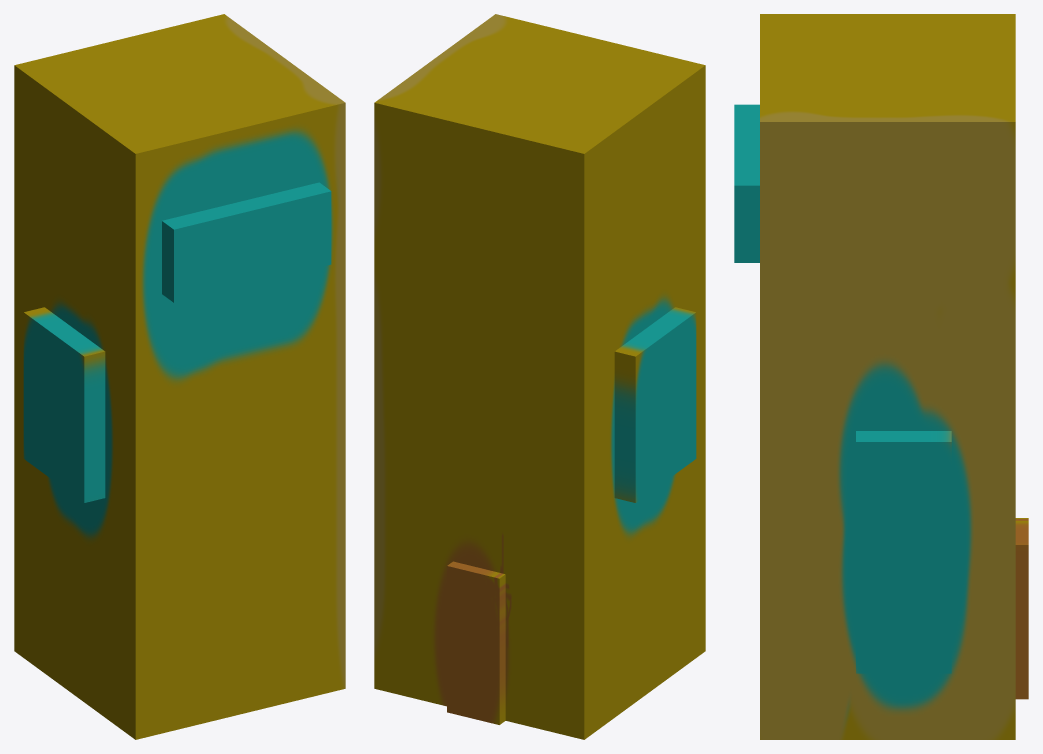
Rendered from building3.glb.
3 renders of one model, left to right at view 1: azimuth 30°, elevation 25°; view 2: azimuth 150°, elevation 25°; view 3: azimuth 270°, elevation 25°, orthographic. The views are drawn at different scales.
Visible parts, largest first — view 1: Cube; view 2: Cube; view 3: Cube.
Boxes of the visible parts, left/top/right/bottom form: Cube: left=14, top=14, right=345, bottom=739; Cube: left=374, top=14, right=705, bottom=739; Cube: left=734, top=14, right=1028, bottom=739.
Size of the model in its own units: 36 by 80 by 34.5.
Materials: 1 (1 with a texture image).
